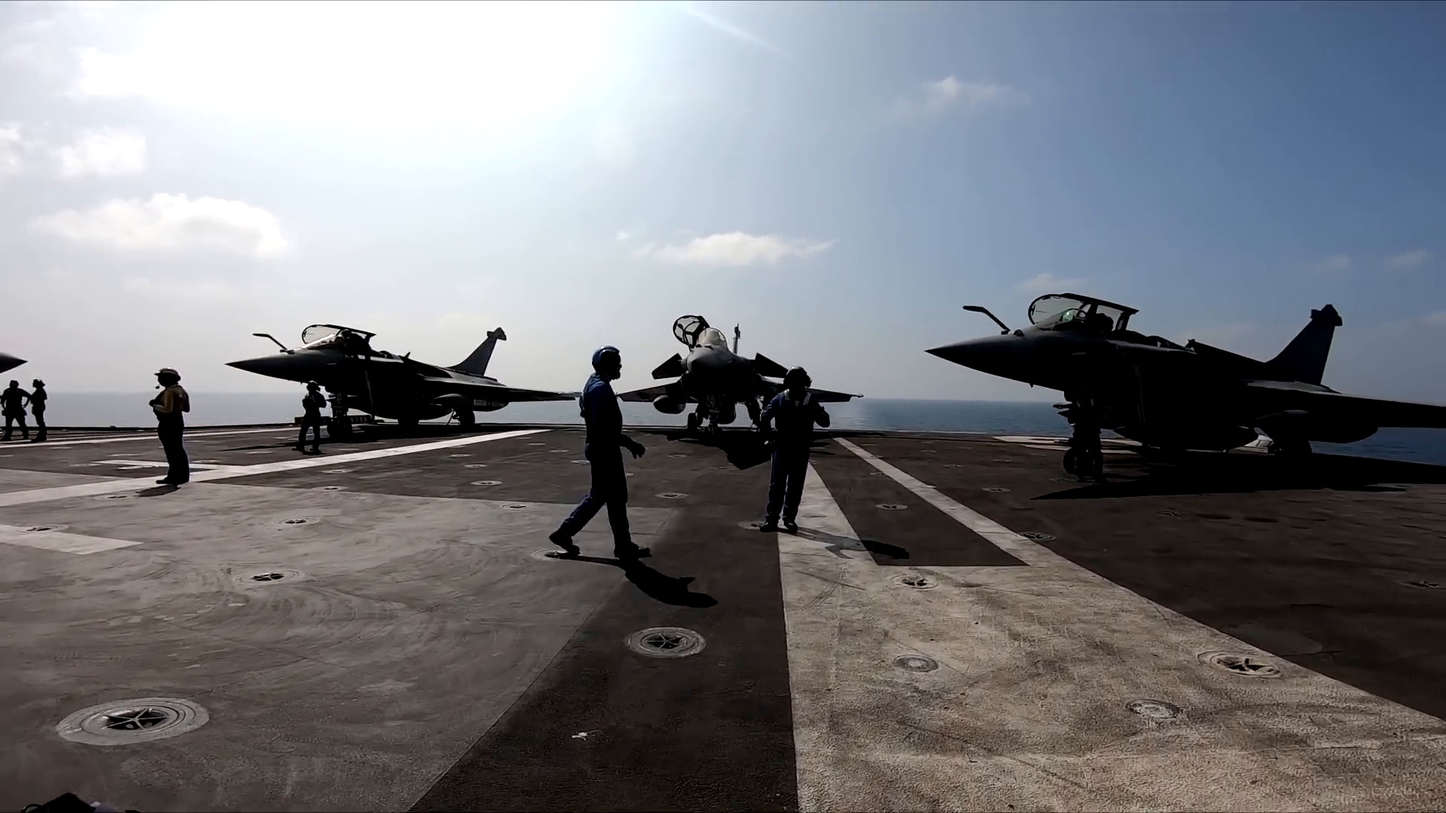Rafale: (923, 293, 1446, 475), (224, 323, 586, 433), (612, 314, 866, 435)
